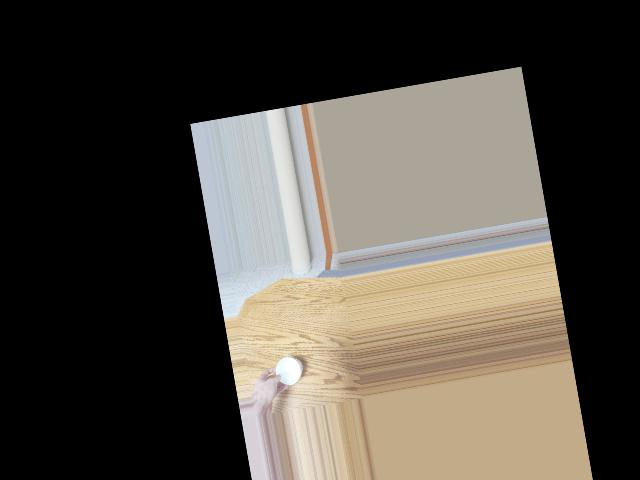cotage: (271, 350, 304, 387)
